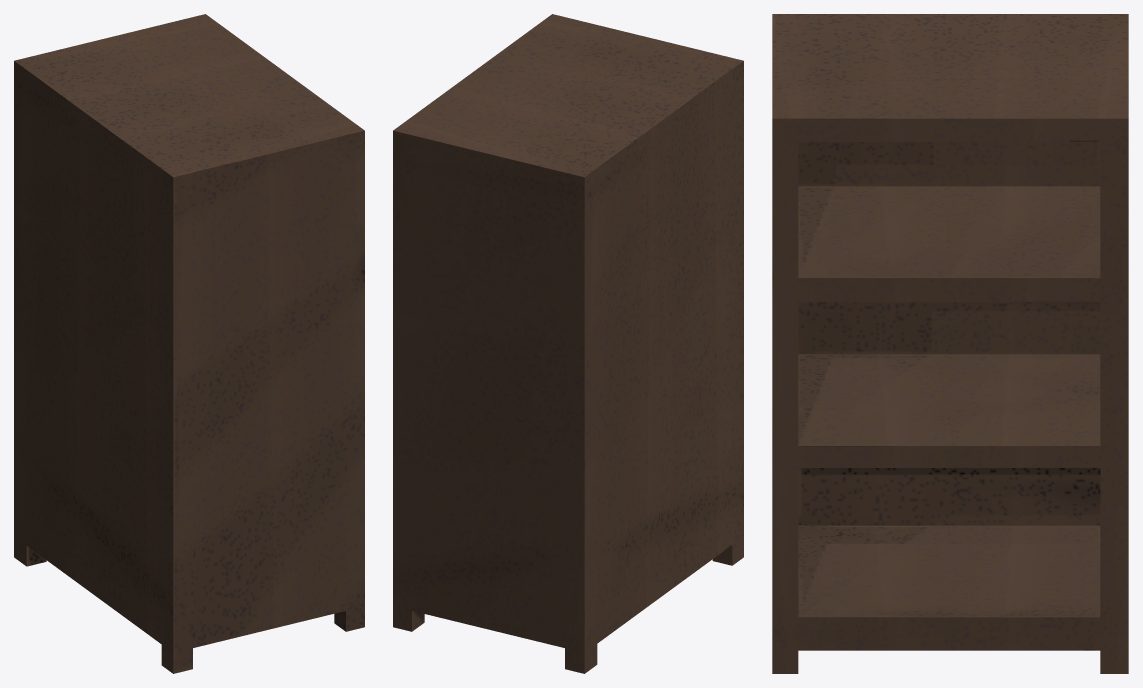
Rendered from Hylly.fbx.
3 renders of one model, left to right at view 1: azimuth 30°, elevation 25°; view 2: azimuth 150°, elevation 25°; view 3: azimuth 270°, elevation 25°, orthographic. The views are drawn at different scales.
Visible parts, largest first — view 1: Cube; view 2: Cube; view 3: Cube.
Boxes of the visible parts, box(x1,y1,x2,y2) form: Cube: box(14, 14, 364, 673); Cube: box(393, 14, 743, 673); Cube: box(772, 14, 1128, 673).
Bounding box in the file's own units: 200 × 495 × 288.
